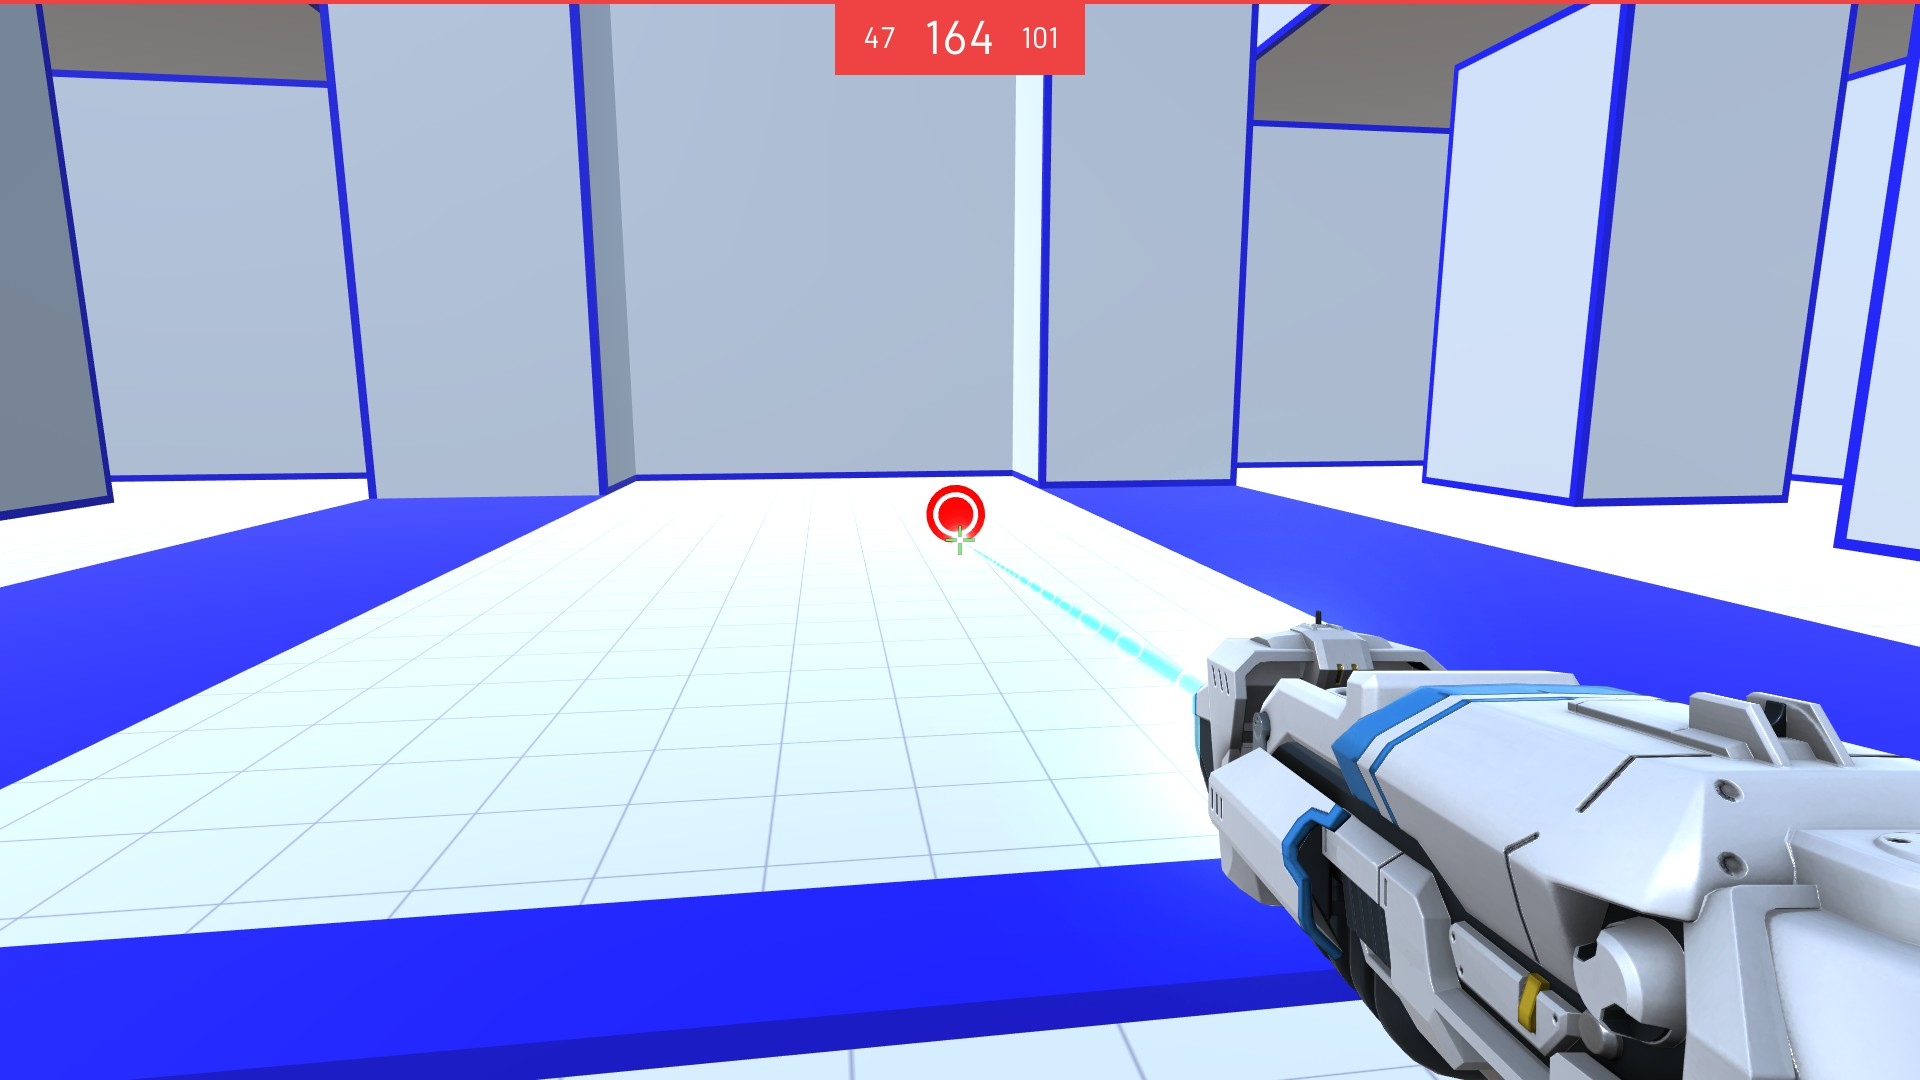target: (926, 485, 988, 545)
